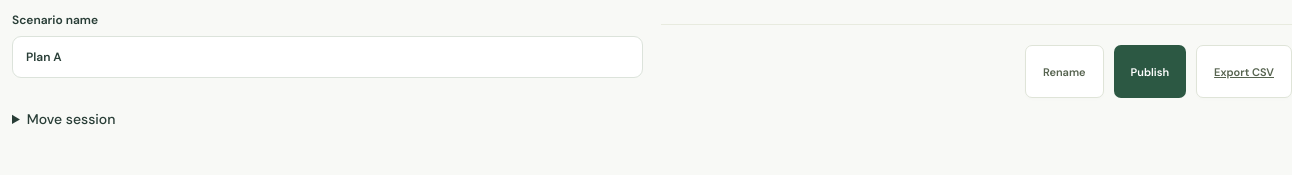
Test case: publish sends the workspace version
The width and height of the screenshot is (1292, 175).
Step 1. Click the button "Publish" → (1150, 72), box [1114,45,1186,98]
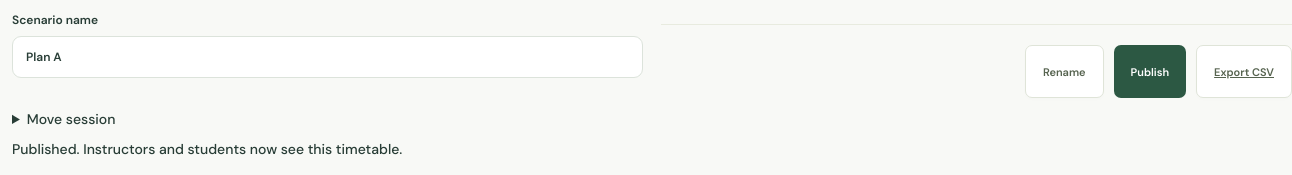
Now the text "Published. Instructors and students now see this timetable." is shown, box [12,140,402,158]
